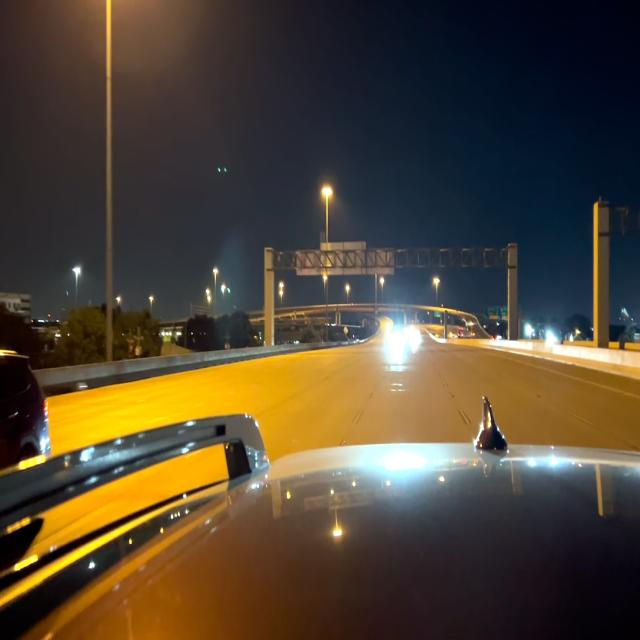back-of-sign: (296, 242, 395, 273)
